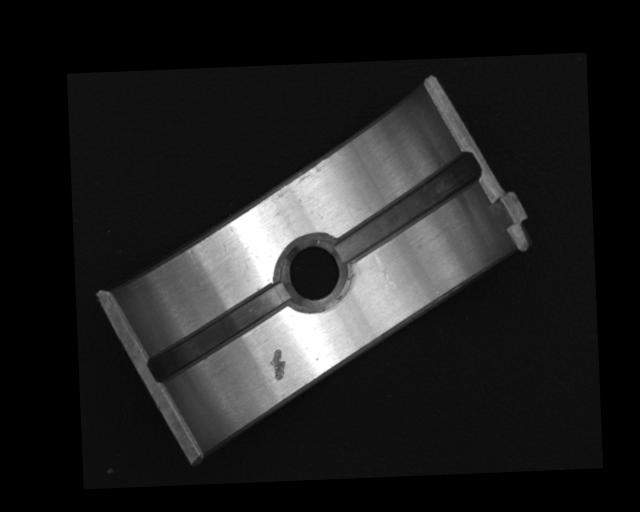bruise: (266, 347, 287, 382)
gap: (335, 150, 482, 264), (145, 284, 293, 384)
hole: (282, 237, 348, 313)
nick: (373, 251, 396, 296)
